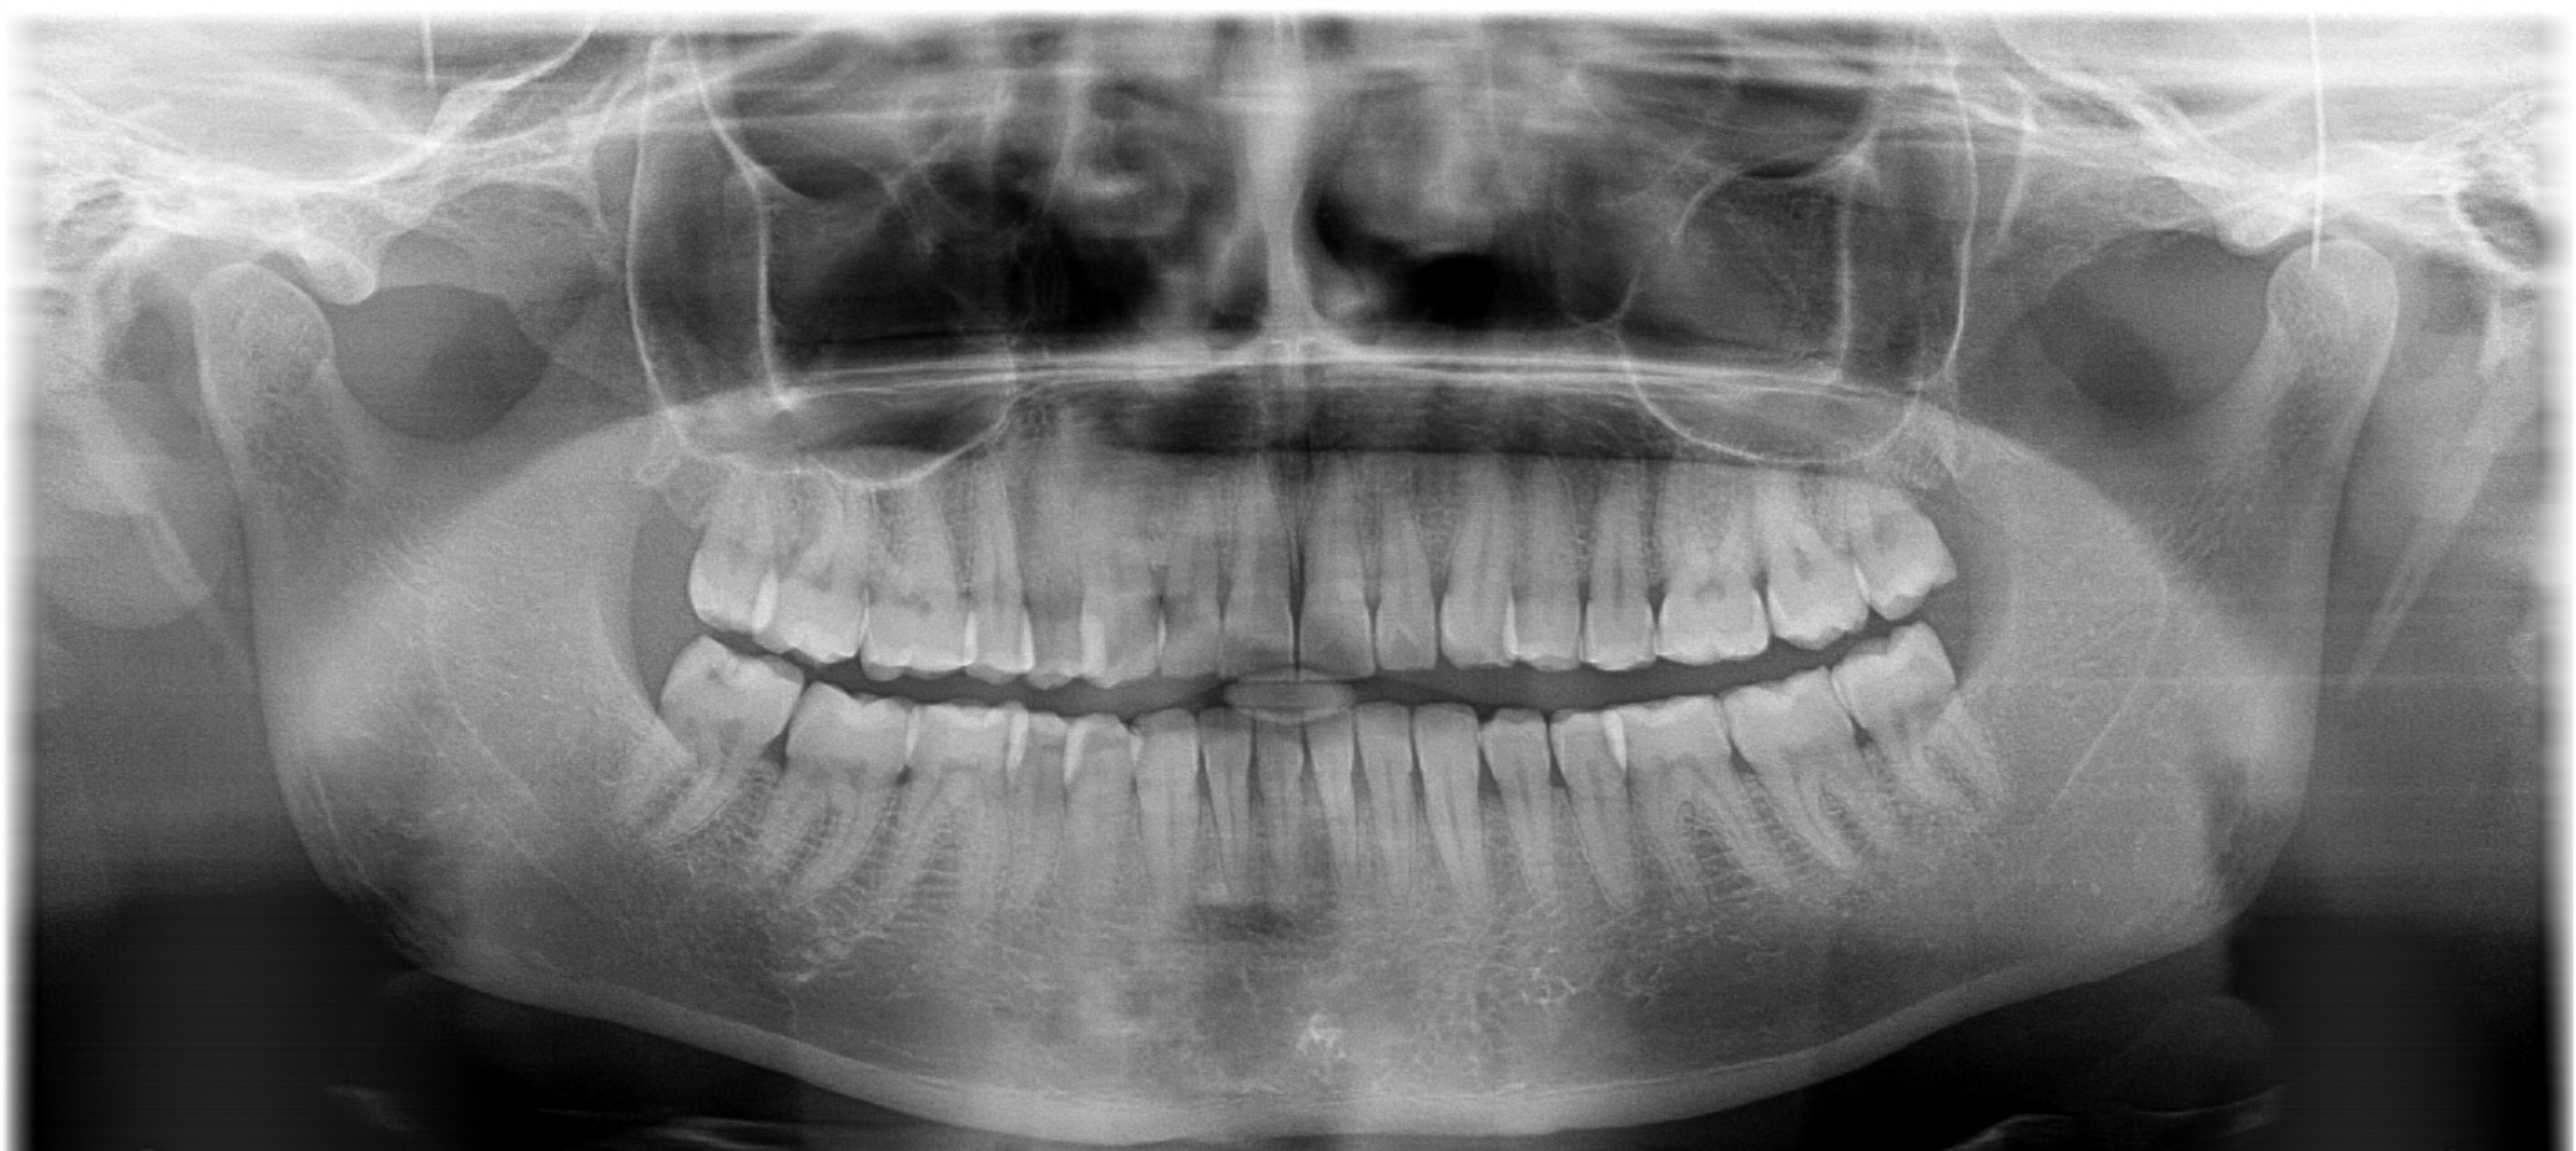cordal: (603, 621, 812, 869), (618, 417, 826, 665), (1804, 424, 2012, 672), (1807, 594, 2014, 842)
dientes_sanos: (519, 358, 2088, 915)
